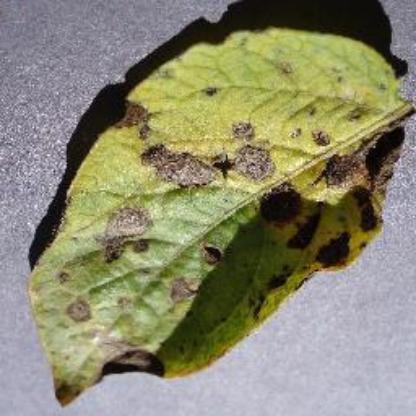Early-Blight: (25, 19, 416, 407)
